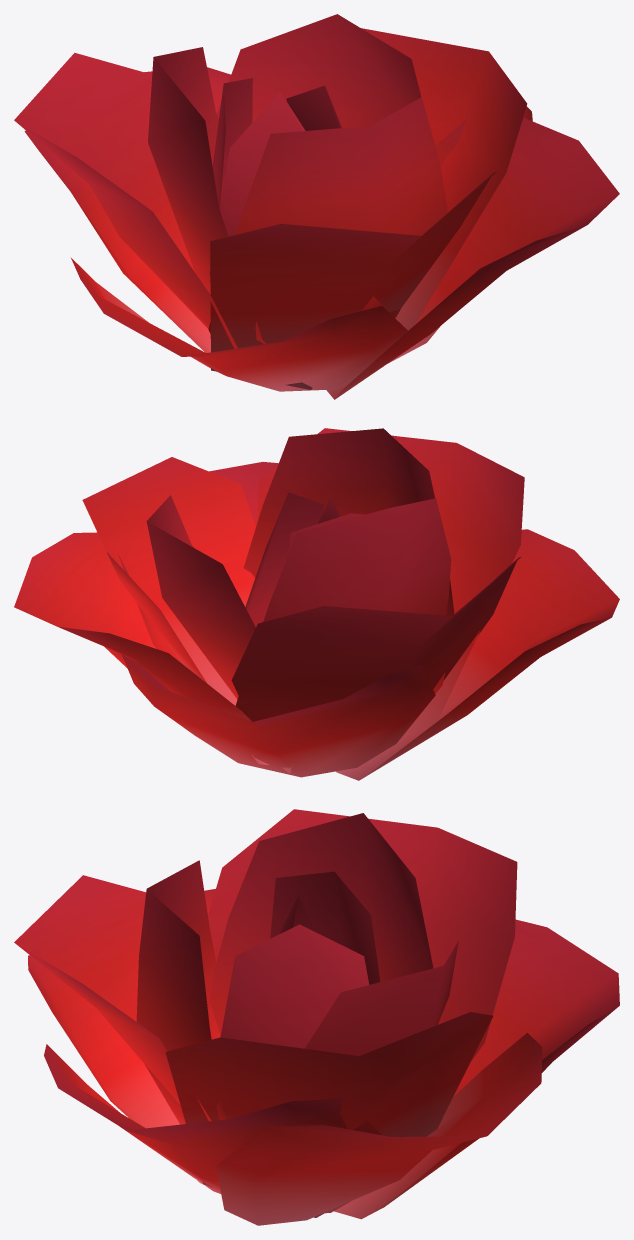
Rendered from Rose_Red.fbx.
3 views of the same model, one above another, from view 1: azimuth 30°, elevation 25°; view 2: azimuth 150°, elevation 25°; view 3: azimuth 270°, elevation 25° (orthographic). The views are drawn at different scales.
Visible parts, largest first — view 1: Rose_Red; view 2: Rose_Red; view 3: Rose_Red.
Part boxes in pixels (<box>): Rose_Red: <box>14,14,619,399</box>; Rose_Red: <box>14,428,619,780</box>; Rose_Red: <box>14,809,619,1225</box>.
Bounding box in the file's own units: 41.94 × 25.78 × 41.52.
